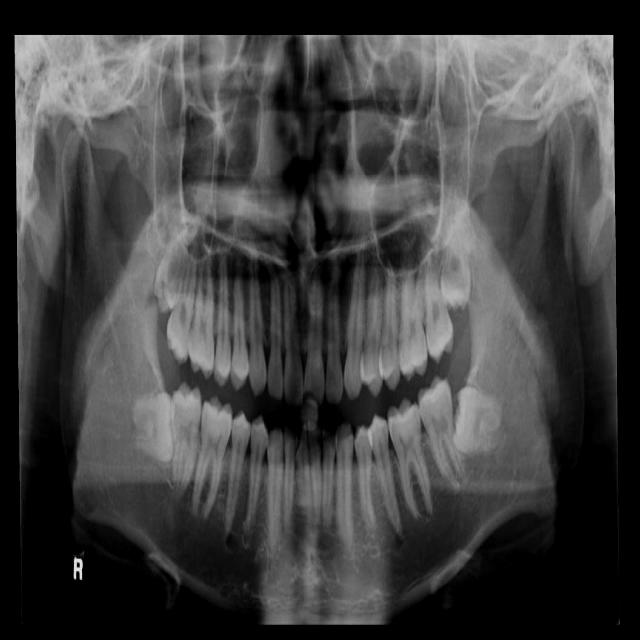Periapical lesion: (160, 504, 179, 537), (199, 511, 211, 537), (418, 510, 433, 525)
impacted tooth: (437, 195, 473, 305), (155, 219, 197, 307), (452, 386, 507, 451), (128, 393, 174, 459)
